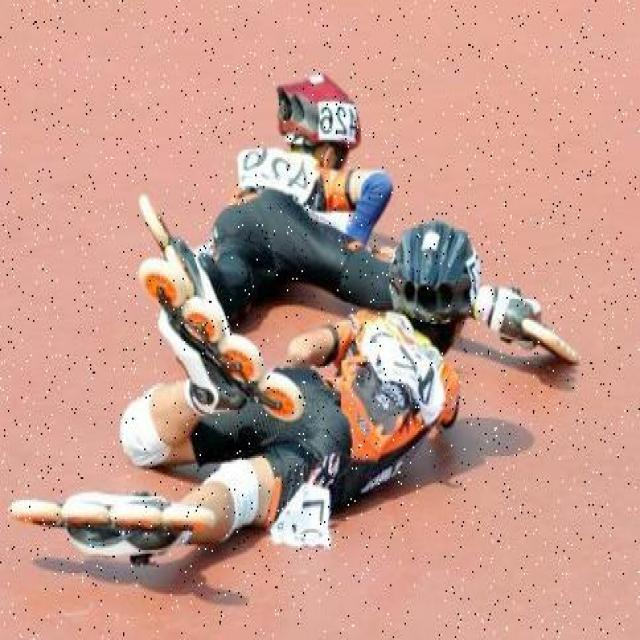fall: (176, 222, 487, 590)
